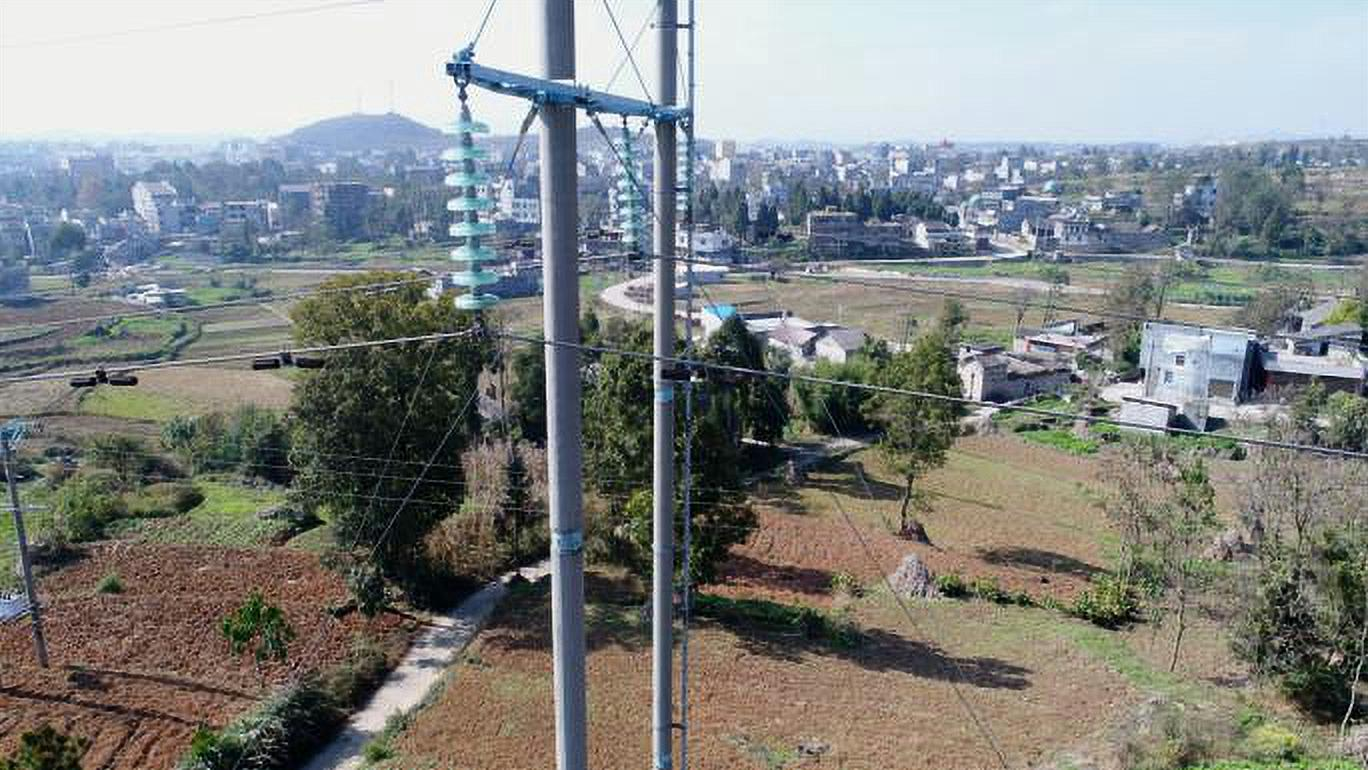insulator: (436, 116, 504, 314), (604, 131, 651, 250)
